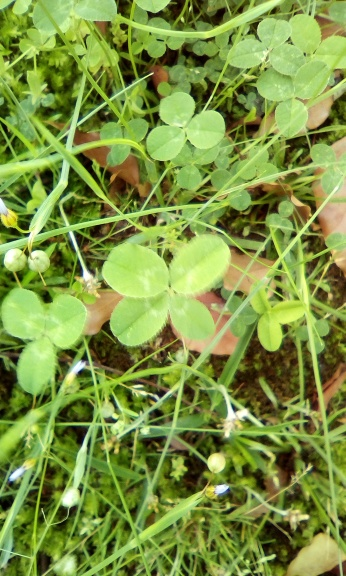4leaf: (101, 233, 233, 347)
